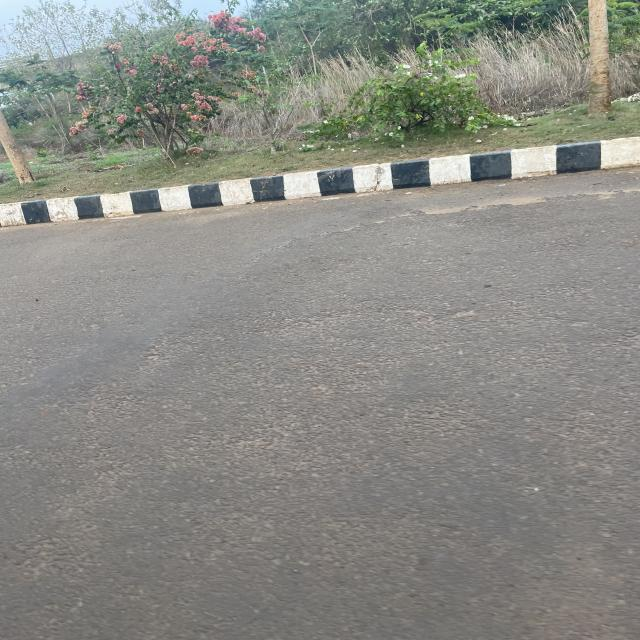D43: (269, 309, 494, 333)
